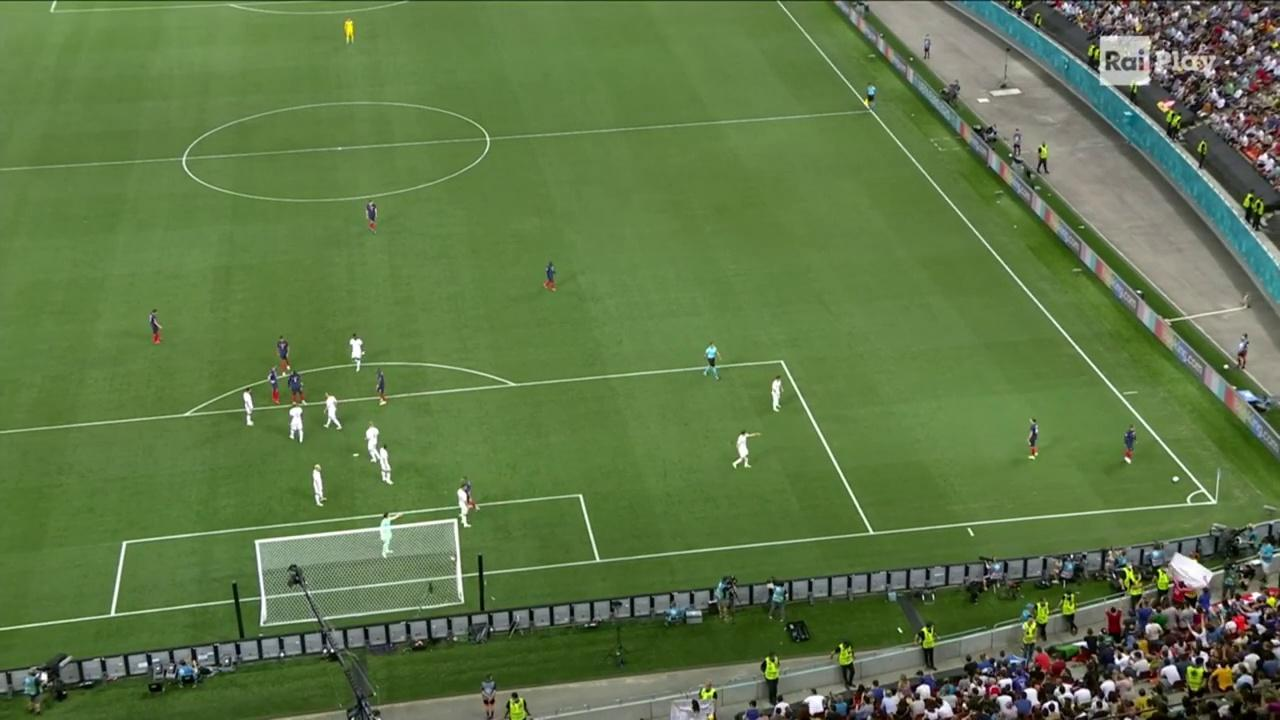ball: (1171, 475, 1179, 484)
goalkeeper: (378, 509, 406, 559), (343, 16, 355, 45)
player: (729, 428, 763, 470), (321, 391, 343, 431), (286, 368, 309, 406), (460, 476, 482, 515), (363, 420, 382, 465), (456, 484, 474, 529), (286, 400, 304, 444), (310, 463, 327, 509), (378, 442, 395, 487), (348, 333, 366, 374), (276, 335, 292, 378), (1122, 422, 1138, 465), (769, 374, 785, 414), (267, 364, 282, 406), (241, 387, 256, 428), (148, 308, 164, 344), (375, 367, 389, 407), (541, 259, 557, 293), (1027, 416, 1039, 461), (365, 199, 379, 235)
referee: (701, 341, 722, 383), (862, 80, 878, 112)
